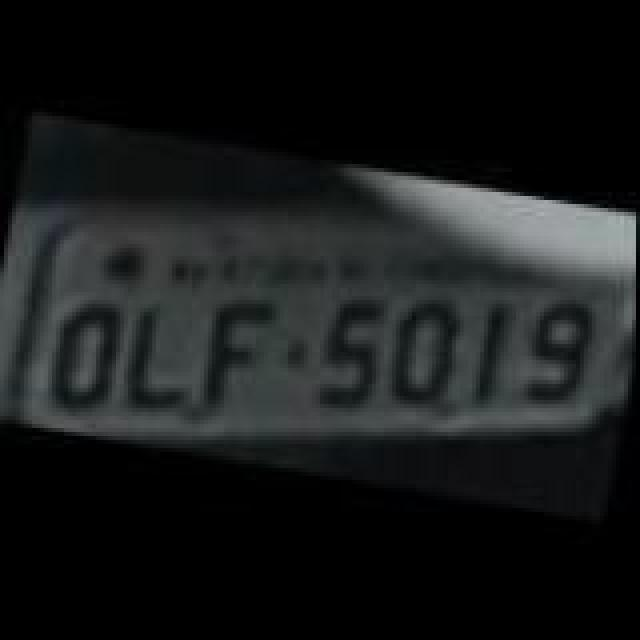1: (462, 294, 522, 414)
5: (312, 292, 392, 416)
9: (514, 292, 598, 412)
F: (192, 290, 280, 422)
L: (118, 298, 210, 418)
O: (382, 294, 466, 410), (44, 300, 124, 412)
